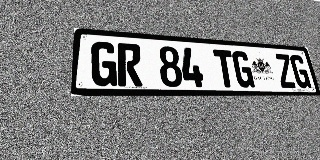4: (180, 47, 204, 87)
8: (158, 46, 183, 87)
G: (91, 41, 117, 86), (231, 51, 255, 88), (289, 55, 312, 88)
R: (117, 43, 142, 87)
T: (213, 49, 237, 87)
Z: (274, 54, 297, 88)
